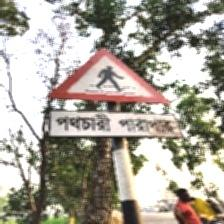Pedestrian-crossing: (46, 47, 182, 139)
